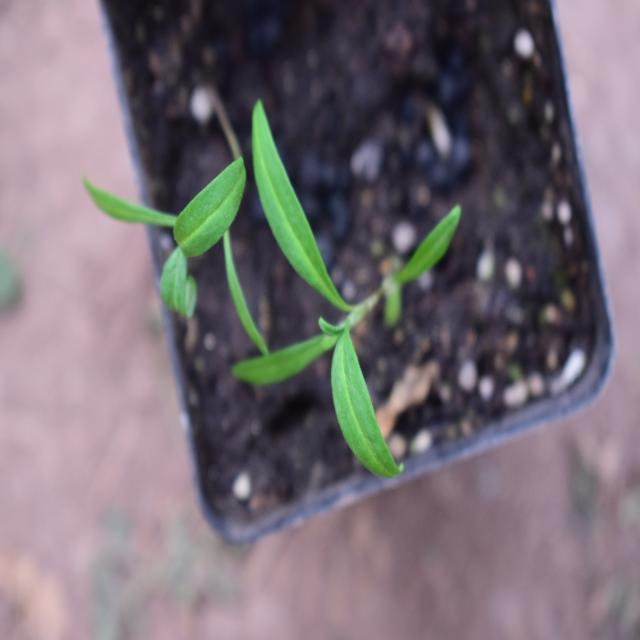white_smart_weed: (244, 101, 501, 520), (85, 121, 258, 386)
